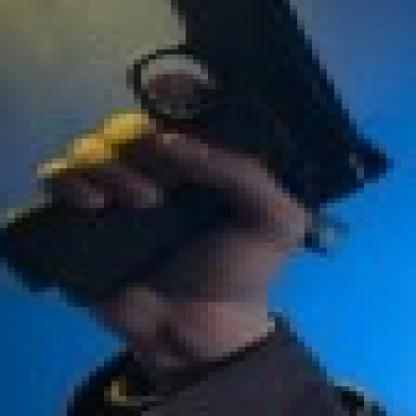gun: (0, 0, 415, 293)
